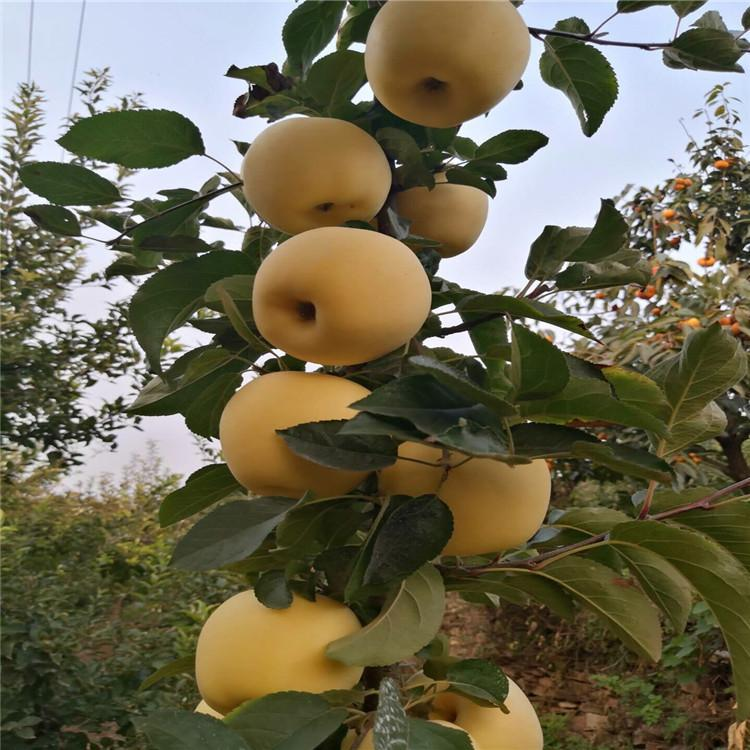apple: (251, 225, 433, 369), (365, 1, 530, 129), (218, 372, 378, 500), (238, 112, 389, 238)
